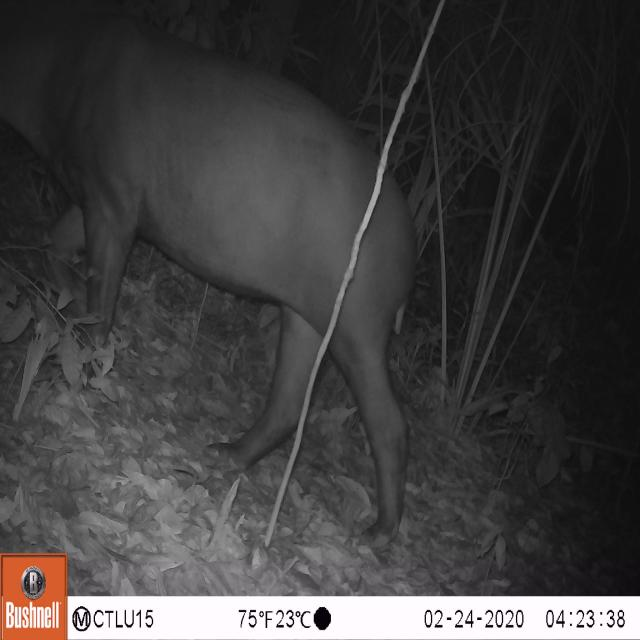Lowland Tapir: (0, 2, 428, 551)
